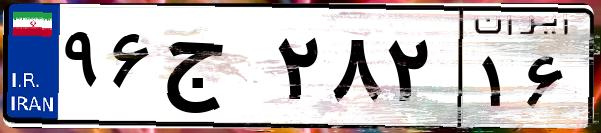1: (475, 38, 525, 113)
2: (270, 28, 330, 110), (385, 28, 445, 110)
6: (525, 38, 570, 115), (110, 28, 158, 98)
8: (330, 28, 385, 110)
9: (57, 26, 110, 100)
ج: (158, 20, 270, 120)
